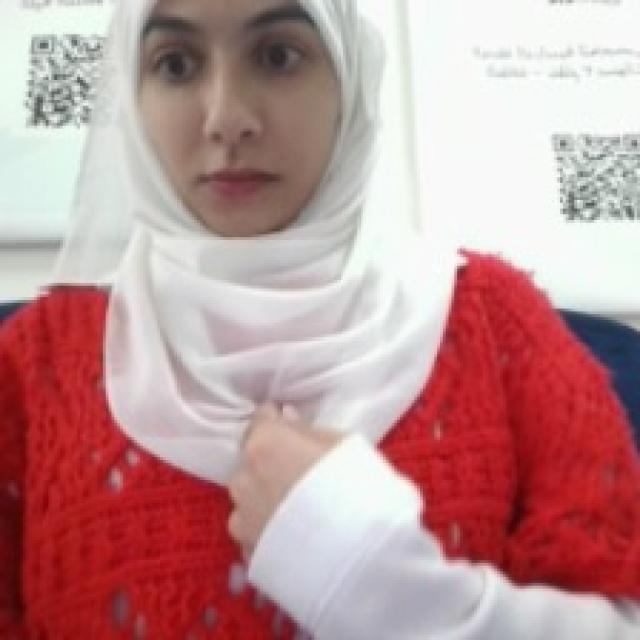me: (219, 392, 355, 580)
